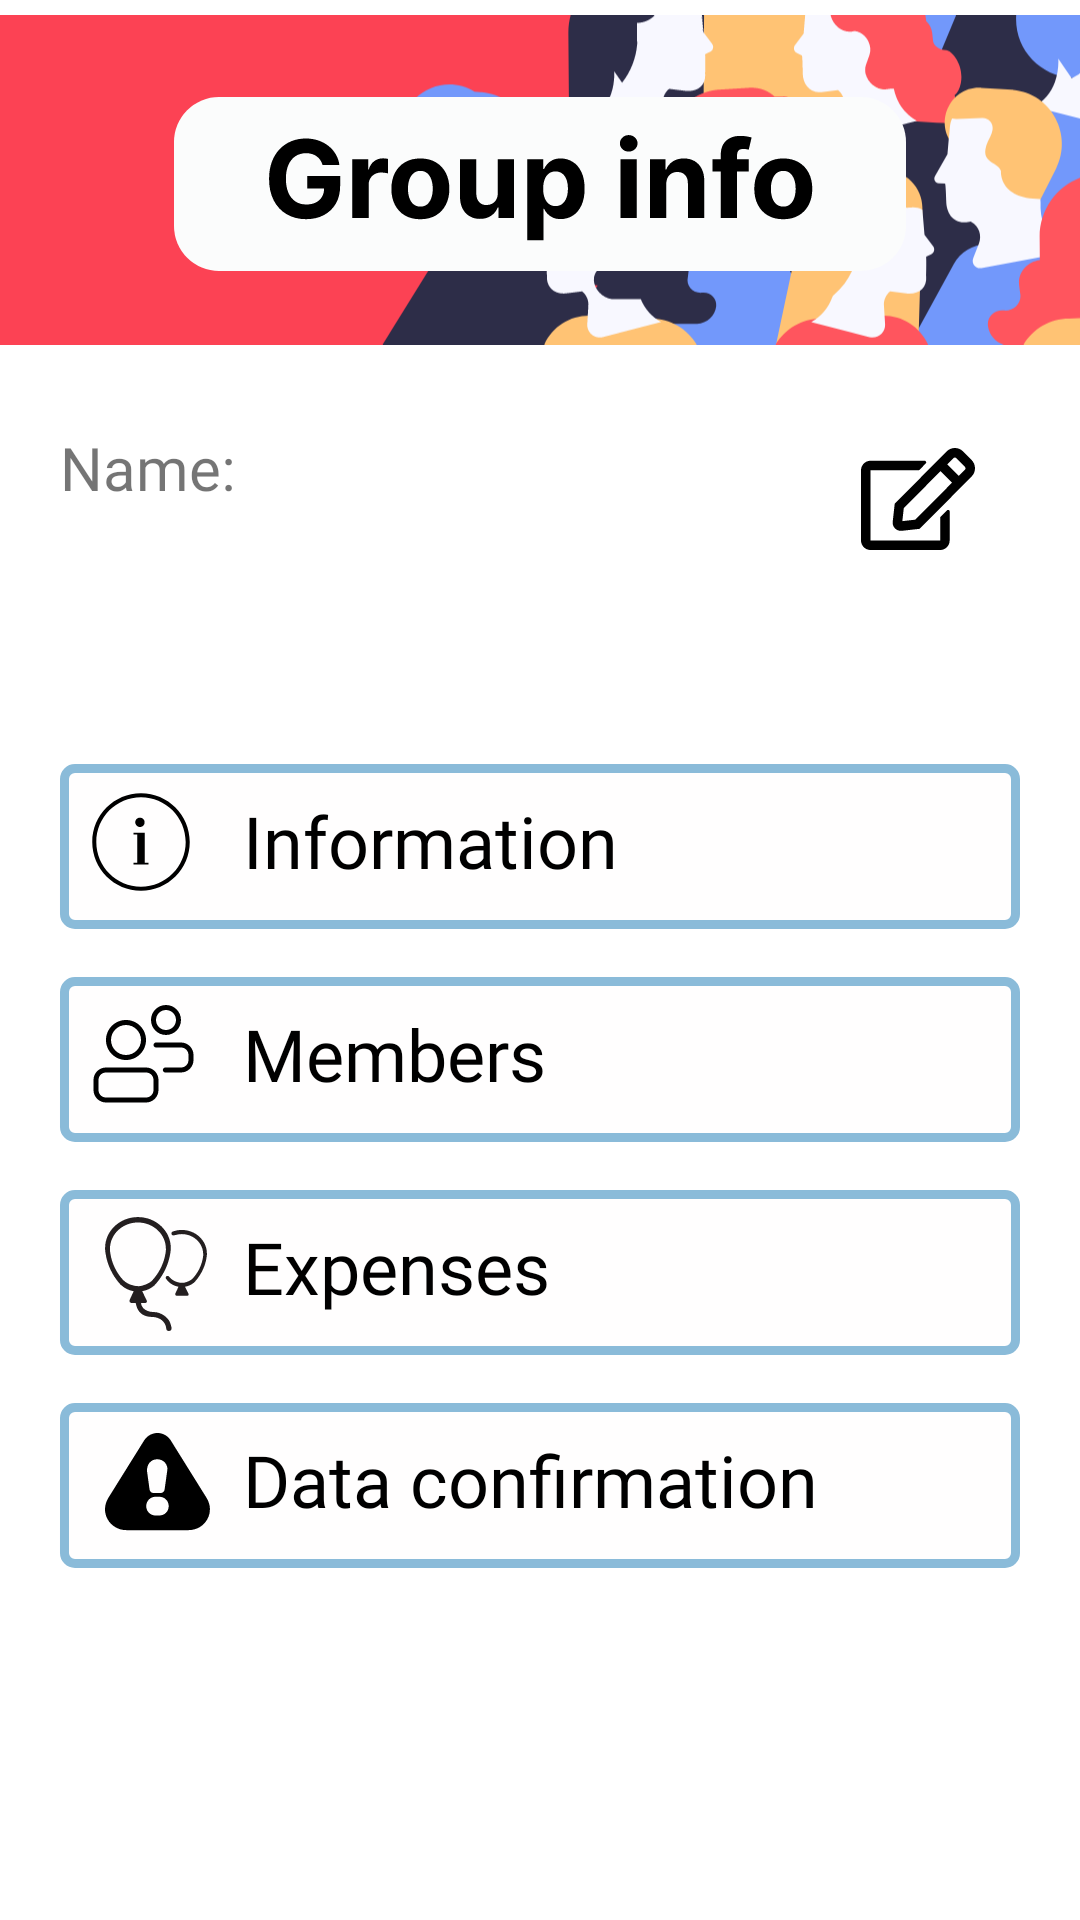

Point at icon controls on the screen. Image size 1080×1920, points as (x=x, y=y).
edit: (x=918, y=499)
